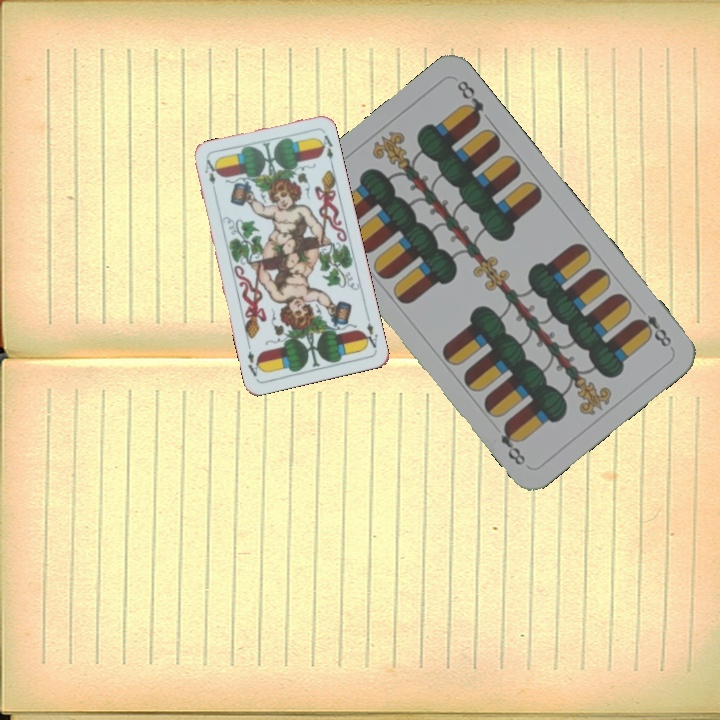E8: (632, 310, 674, 350)
EA: (359, 312, 380, 351), (201, 155, 218, 196)
